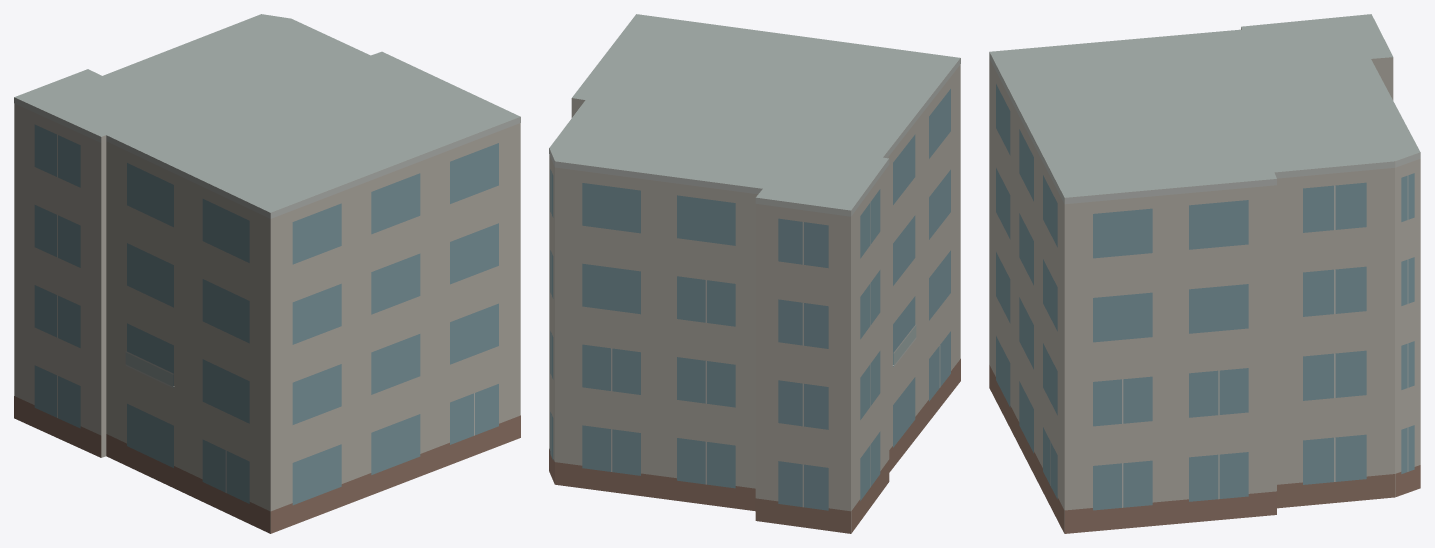
The model's file is survey-upis-32637393.glb.
3 views of the same model, side by side, from view 1: azimuth 30°, elevation 25°; view 2: azimuth 150°, elevation 25°; view 3: azimuth 270°, elevation 25° (orthographic). The views are drawn at different scales.
Parts seen in each view (by area): view 1: survey-upis-32637393.tmp; view 2: survey-upis-32637393.tmp; view 3: survey-upis-32637393.tmp.
Boxes of the visible parts, x1,y1,x2,y2 form: survey-upis-32637393.tmp: (14, 14, 520, 533); survey-upis-32637393.tmp: (549, 14, 960, 533); survey-upis-32637393.tmp: (989, 14, 1420, 533).
Size of the model in its own units: 15.03 by 12.8 by 14.9.
